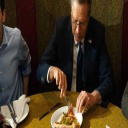Fork: (60, 87, 76, 116)
